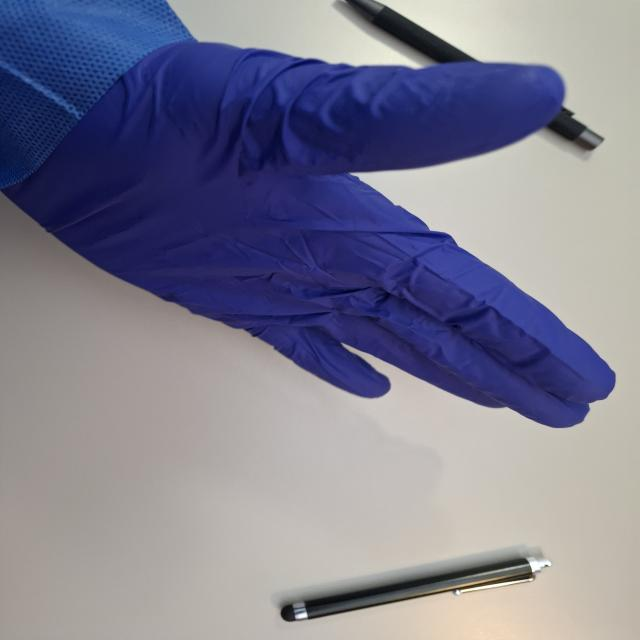glove_on: (4, 32, 623, 430)
